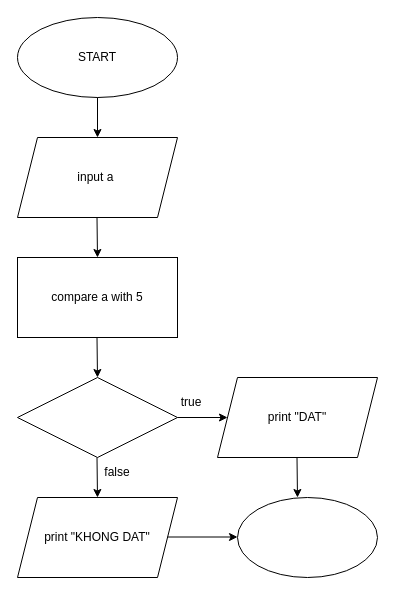
Some shapes in this 395 by 595 pixel diagram are drawn without their labels. The centre of each missing label's shape, as x and y in pixels:
"END" belongs at pixel 307 537.
"if a>5" belongs at pixel 97 417.
